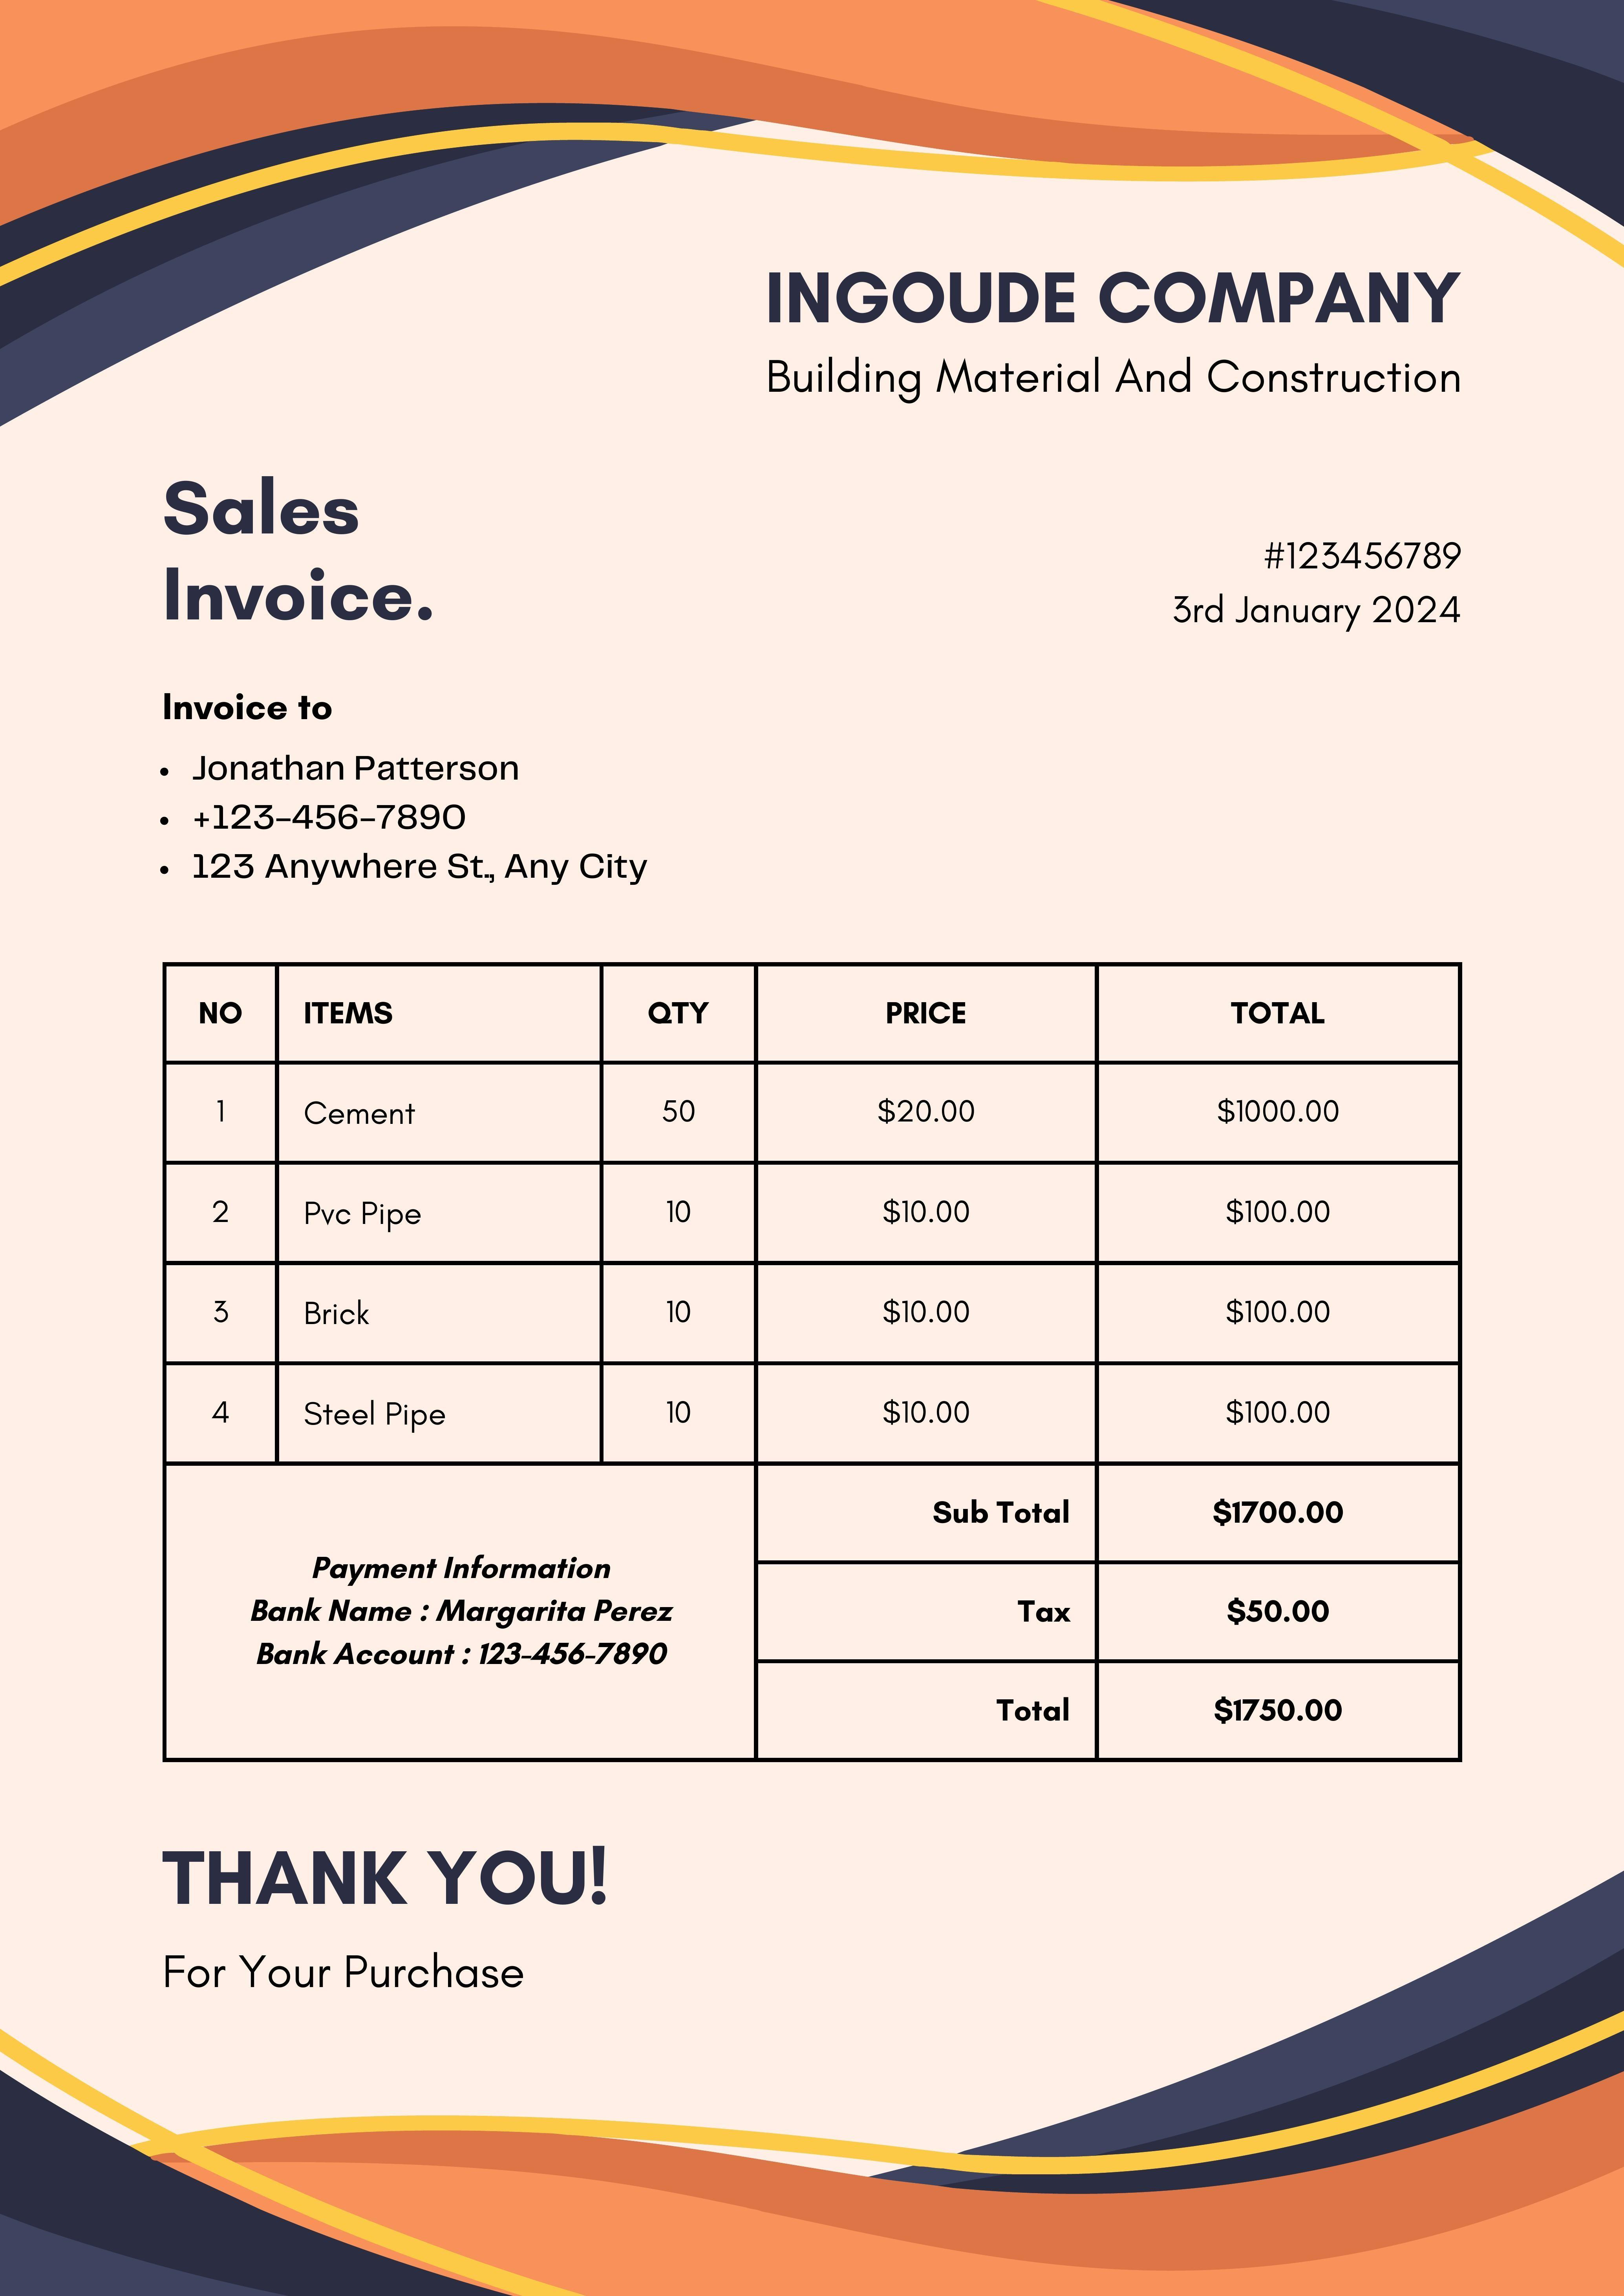ROI: (165, 954, 1461, 1460), (167, 1465, 749, 1753), (893, 1472, 1404, 1751), (738, 249, 1515, 429), (135, 678, 670, 912), (1127, 509, 1503, 646)
